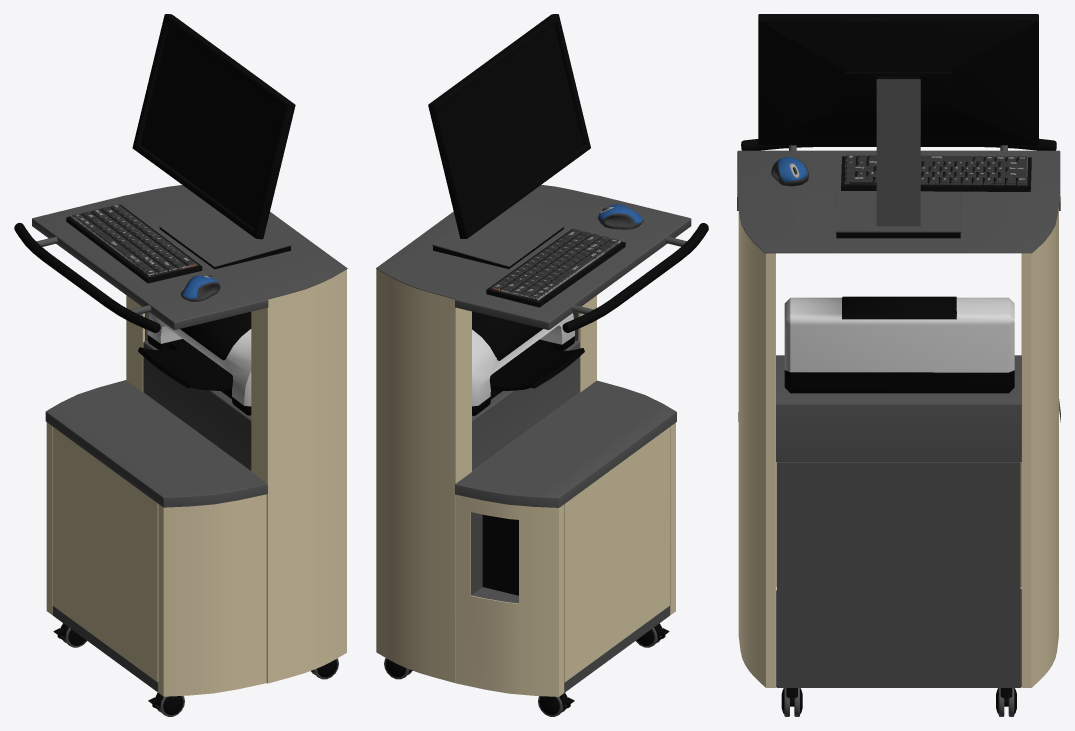
Rendered from Station_Computer.FBX.
The picture shows the model from 3 angles, left to right: view 1: azimuth 30°, elevation 25°; view 2: azimuth 150°, elevation 25°; view 3: azimuth 270°, elevation 25°; orthographic projection. The views are drawn at different scales.
Parts seen in each view (by area): view 1: Biodex_Station_Chassis, Biodex_Station_KeyboardMonitorScreen, Biodex_Station_TopPlate, Biodex_Station_Printer, Biodex_Station_MonitorStand, Biodex_Station_Keyboard_Keys, Biodex_Station_HandleBar, Biodex_Station_KeyboardBase, Biodex_Station_Mouse; view 2: Biodex_Station_Chassis, Biodex_Station_KeyboardMonitorScreen, Biodex_Station_TopPlate, Biodex_Station_Printer, Biodex_Station_MonitorStand, Biodex_Station_Keyboard_Keys, Biodex_Station_HandleBar, Biodex_Station_KeyboardBase, Biodex_Station_Mouse; view 3: Biodex_Station_Chassis, Biodex_Station_KeyboardMonitorScreen, Biodex_Station_Printer, Biodex_Station_TopPlate, Biodex_Station_MonitorStand, Biodex_Station_Keyboard_Keys, Biodex_Station_MonitorSlider, Biodex_Station_KeyboardBase, Biodex_Station_HandleBar, Biodex_Station_Mouse.
Part boxes in pixels (bbox=[...]): Biodex_Station_Chassis: bbox=[45, 269, 346, 696]; Biodex_Station_KeyboardMonitorScreen: bbox=[132, 14, 295, 239]; Biodex_Station_TopPlate: bbox=[32, 185, 347, 329]; Biodex_Station_Printer: bbox=[138, 311, 251, 415]; Biodex_Station_MonitorStand: bbox=[158, 209, 291, 269]; Biodex_Station_Keyboard_Keys: bbox=[71, 204, 197, 277]; Biodex_Station_HandleBar: bbox=[14, 223, 160, 332]; Biodex_Station_KeyboardBase: bbox=[66, 204, 202, 283]; Biodex_Station_Mouse: bbox=[181, 275, 220, 301]; Biodex_Station_Chassis: bbox=[376, 269, 676, 696]; Biodex_Station_KeyboardMonitorScreen: bbox=[428, 14, 590, 238]; Biodex_Station_TopPlate: bbox=[376, 185, 691, 329]; Biodex_Station_Printer: bbox=[472, 311, 584, 415]; Biodex_Station_MonitorStand: bbox=[432, 209, 564, 268]; Biodex_Station_Keyboard_Keys: bbox=[491, 228, 620, 301]; Biodex_Station_HandleBar: bbox=[562, 223, 708, 332]; Biodex_Station_KeyboardBase: bbox=[486, 229, 625, 307]; Biodex_Station_Mouse: bbox=[597, 204, 643, 229]; Biodex_Station_Chassis: bbox=[738, 206, 1060, 687]; Biodex_Station_KeyboardMonitorScreen: bbox=[758, 14, 1038, 145]; Biodex_Station_Printer: bbox=[784, 296, 1014, 393]; Biodex_Station_TopPlate: bbox=[737, 150, 1060, 253]; Biodex_Station_MonitorStand: bbox=[835, 76, 961, 238]; Biodex_Station_Keyboard_Keys: bbox=[844, 155, 1027, 185]; Biodex_Station_MonitorSlider: bbox=[845, 72, 951, 105]; Biodex_Station_KeyboardBase: bbox=[841, 156, 1031, 191]; Biodex_Station_HandleBar: bbox=[741, 138, 1056, 150]; Biodex_Station_Mouse: bbox=[771, 157, 808, 186].
Size of the model in its own units: 56.61 by 149 by 65.06.
